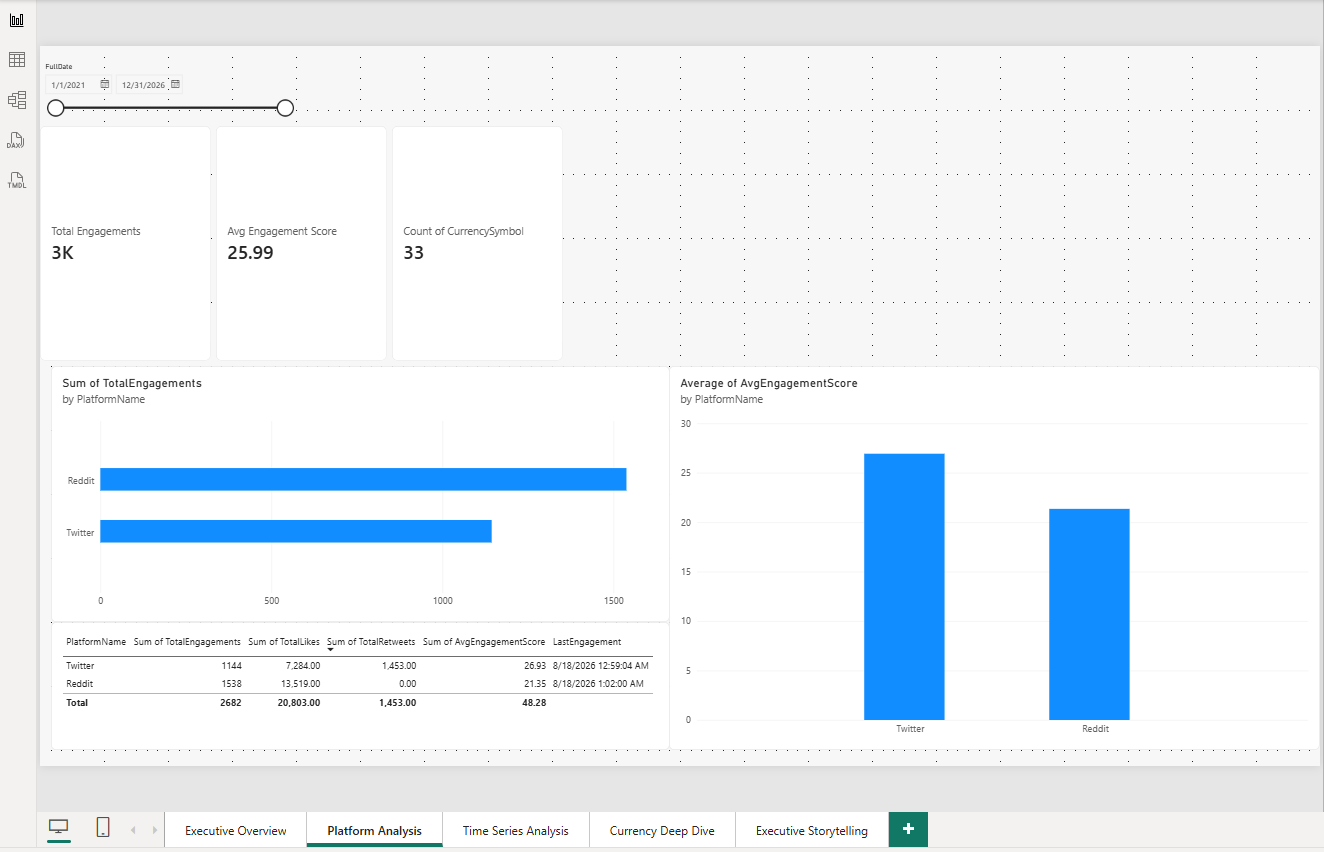

What the dashboard file says about the page in this screenshot:
{"tool":"powerbi","page":{"name":"Platform Analysis","canvas":[1920,1080],"ordinal":1},"visuals":[{"type":"cardVisual","fields":{"Data":["vw_executivedashboard.Total Engagements"]},"box":[0,120,256,352],"z":2000},{"type":"cardVisual","fields":{"Data":["vw_executivedashboard.Avg Engagement Score"]},"box":[264,120,256,352],"z":3000},{"type":"cardVisual","fields":{"Data":["Count(vw_executivedashboard.CurrencySymbol)"]},"box":[528,120,256,352],"z":4000},{"type":"tableEx","fields":{"Values":["vw_socialanalytics.PlatformName","Sum(vw_socialanalytics.TotalEngagements)","Sum(vw_socialanalytics.TotalLikes)","Sum(vw_socialanalytics.TotalRetweets)","Sum(vw_socialanalytics.AvgEngagementScore)","vw_socialanalytics.LastEngagement"]},"box":[16,864,928,192],"z":5000},{"type":"clusteredBarChart","fields":{"Category":["vw_socialanalytics.PlatformName"],"Y":["Sum(vw_socialanalytics.TotalEngagements)"]},"box":[16,480,928,384],"z":6000},{"type":"clusteredColumnChart","fields":{"Category":["vw_socialanalytics.PlatformName"],"Y":["Avg(vw_socialanalytics.AvgEngagementScore)"]},"box":[944,480,976,576],"z":7000},{"type":"slicer","fields":{"Values":["dimdate.FullDate"]},"box":[0,24,384,96],"z":8000}]}

Visuals, with their boxes on the page's 1920x1080 design canvas (x1, y1, x2, y2). These are canvas units, not pixel positions in the 1324x852 screenshot, which may show the page scaled, cropped or inside an application window:
cardVisual - vw_executivedashboard.Total Engagements: [x1=0, y1=120, x2=256, y2=472]
cardVisual - vw_executivedashboard.Avg Engagement Score: [x1=264, y1=120, x2=520, y2=472]
cardVisual - Count(vw_executivedashboard.CurrencySymbol): [x1=528, y1=120, x2=784, y2=472]
tableEx - vw_socialanalytics.PlatformName x Sum(vw_socialanalytics.TotalEngagements): [x1=16, y1=864, x2=944, y2=1056]
clusteredBarChart - vw_socialanalytics.PlatformName x Sum(vw_socialanalytics.TotalEngagements): [x1=16, y1=480, x2=944, y2=864]
clusteredColumnChart - vw_socialanalytics.PlatformName x Avg(vw_socialanalytics.AvgEngagementScore): [x1=944, y1=480, x2=1920, y2=1056]
slicer - dimdate.FullDate: [x1=0, y1=24, x2=384, y2=120]
